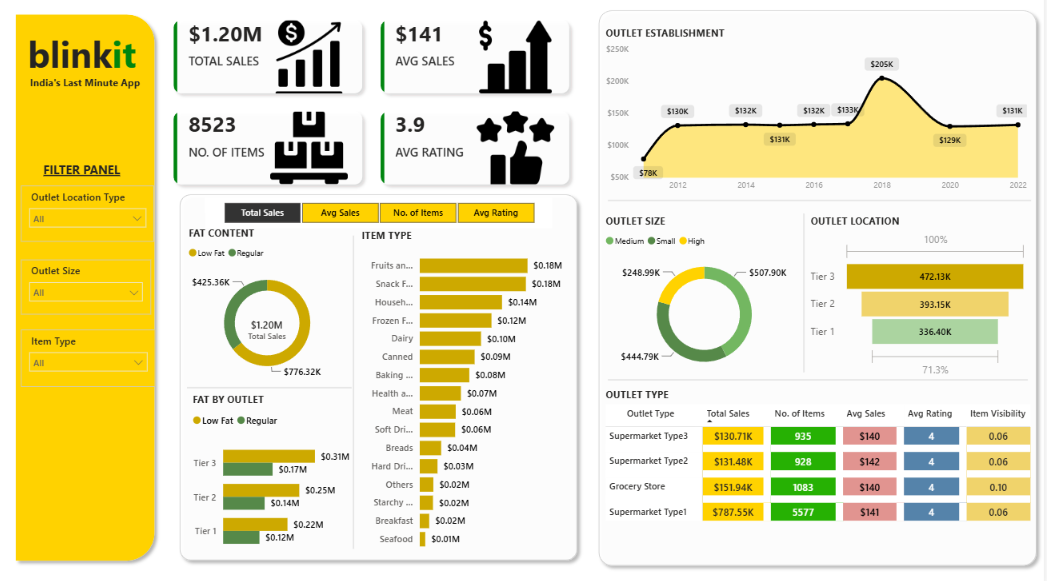

The page's visual inventory and layout, read from the dashboard file:
{"tool":"powerbi","page":{"name":"Blinkit Dasboard","canvas":[1400,800],"ordinal":0},"visuals":[{"type":"shape","box":[13.5,25.5,204.1,750.4],"z":0},{"type":"textbox","box":[265.7,625.9,204.1,150.1],"z":1000},{"type":"textbox","box":[33,49.5,165.1,81],"z":2000},{"type":"textbox","box":[13.5,111.1,204.1,33],"z":3000},{"type":"cardVisual","fields":{"Data":["BlinkIT Grocery Data.Total Sales","BlinkIT Grocery Data.Avg Sales","BlinkIT Grocery Data.No. of Items","BlinkIT Grocery Data.Avg Rating"]},"box":[217.6,25.5,565.8,255.1],"z":4000},{"type":"shape","box":[232.6,267.2,550.8,508.8],"z":5000},{"type":"donutChart","title":"FAT CONTENT","fields":{"Y":["BlinkIT Grocery Data.Total Sales"],"Category":["BlinkIT Grocery Data.Item Fat Content"]},"box":[249.1,318.2,220.6,216.1],"z":6000},{"type":"slicer","fields":{"Values":["Metrics.Metrics"]},"box":[276.2,280.7,465.3,40.5],"z":7000},{"type":"cardVisual","fields":{"Data":["BlinkIT Grocery Data.Total Sales"]},"box":[313.7,417.2,91.6,79.5],"z":8000},{"type":"clusteredBarChart","title":"FAT BY OUTLET","fields":{"Y":["BlinkIT Grocery Data.Total Sales"],"Category":["BlinkIT Grocery Data.Outlet Location Type"],"Series":["BlinkIT Grocery Data.Item Fat Content"]},"box":[255.1,541.8,220.6,228.1],"z":9000},{"type":"shape","box":[252.1,520.8,220.6,27],"z":10000},{"type":"shape","box":[469.8,331.7,12,420.2],"z":11000},{"type":"barChart","title":"ITEM TYPE","fields":{"Y":["BlinkIT Grocery Data.Total Sales"],"Category":["BlinkIT Grocery Data.Item Type"]},"box":[481.8,321.2,279.2,441.3],"z":12000},{"type":"shape","box":[795.5,19.5,604.8,762.4],"z":13000},{"type":"lineChart","title":"OUTLET ESTABLISHMENT","fields":{"Y":["BlinkIT Grocery Data.Total Sales"],"Category":["BlinkIT Grocery Data.Outlet Establishment Year"]},"box":[809,49.5,574.8,231.1],"z":14000},{"type":"shape","box":[816.5,267.2,567.3,34.5],"z":15000},{"type":"donutChart","title":"OUTLET SIZE","fields":{"Y":["BlinkIT Grocery Data.Total Sales"],"Category":["BlinkIT Grocery Data.Outlet Size"]},"box":[809,301.7,274.7,225.1],"z":16000},{"type":"shape","box":[1073.1,301.7,10.5,213.1],"z":17000},{"type":"funnel","title":"OUTLET LOCATION","fields":{"Y":["Sum(BlinkIT Grocery Data.Sales)"],"Category":["BlinkIT Grocery Data.Outlet Location Type"]},"box":[1083.6,301.7,300.2,225.1],"z":18000},{"type":"shape","box":[816.5,514.8,562.8,19.5],"z":19000},{"type":"pivotTable","title":"OUTLET TYPE","fields":{"Rows":["BlinkIT Grocery Data.Outlet Type"],"Values":["BlinkIT Grocery Data.Total Sales","BlinkIT Grocery Data.No. of Items","BlinkIT Grocery Data.Avg Sales","BlinkIT Grocery Data.Avg Rating","Avg(BlinkIT Grocery Data.Item Visibility)"]},"box":[809,534.3,582.3,265.7],"z":20000},{"type":"slicer","fields":{"Values":["BlinkIT Grocery Data.Outlet Location Type"]},"box":[30,264.2,178.6,75],"z":21000},{"type":"slicer","fields":{"Values":["BlinkIT Grocery Data.Outlet Size"]},"box":[30,363.2,174.1,73.5],"z":22000},{"type":"slicer","fields":{"Values":["BlinkIT Grocery Data.Item Type"]},"box":[30,457.8,180.1,76.5],"z":23000},{"type":"textbox","box":[13.5,226.6,195.1,37.5],"z":24000}]}

Visuals, with their boxes in screenshot pixels (x1, y1, x2, y2), scaled from the page's 1400x800 canvas onto the 1047x581 screenshot:
shape: [10, 19, 163, 563]
textbox: [199, 455, 351, 564]
textbox: [25, 36, 148, 95]
textbox: [10, 81, 163, 105]
cardVisual - BlinkIT Grocery Data.Total Sales x BlinkIT Grocery Data.Avg Sales: [163, 19, 586, 204]
shape: [174, 194, 586, 564]
"FAT CONTENT" donutChart: [186, 231, 351, 388]
slicer - Metrics.Metrics: [207, 204, 555, 233]
cardVisual - BlinkIT Grocery Data.Total Sales: [235, 303, 303, 361]
"FAT BY OUTLET" clusteredBarChart: [191, 393, 356, 559]
shape: [189, 378, 354, 398]
shape: [351, 241, 360, 546]
"ITEM TYPE" barChart: [360, 233, 569, 554]
shape: [595, 14, 1046, 568]
"OUTLET ESTABLISHMENT" lineChart: [605, 36, 1035, 204]
shape: [611, 194, 1035, 219]
"OUTLET SIZE" donutChart: [605, 219, 810, 383]
shape: [803, 219, 810, 374]
"OUTLET LOCATION" funnel: [810, 219, 1035, 383]
shape: [611, 374, 1032, 388]
"OUTLET TYPE" pivotTable: [605, 388, 1040, 580]
slicer - BlinkIT Grocery Data.Outlet Location Type: [22, 192, 156, 246]
slicer - BlinkIT Grocery Data.Outlet Size: [22, 264, 153, 317]
slicer - BlinkIT Grocery Data.Item Type: [22, 332, 157, 388]
textbox: [10, 165, 156, 192]
